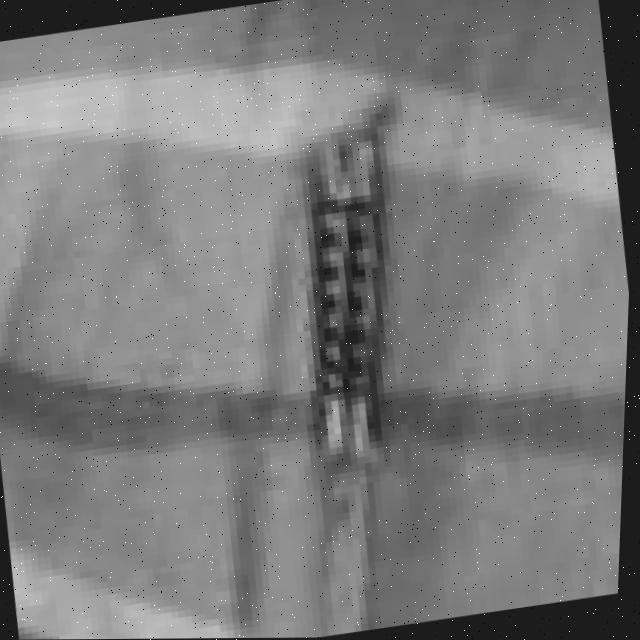knife: (257, 134, 446, 638)
